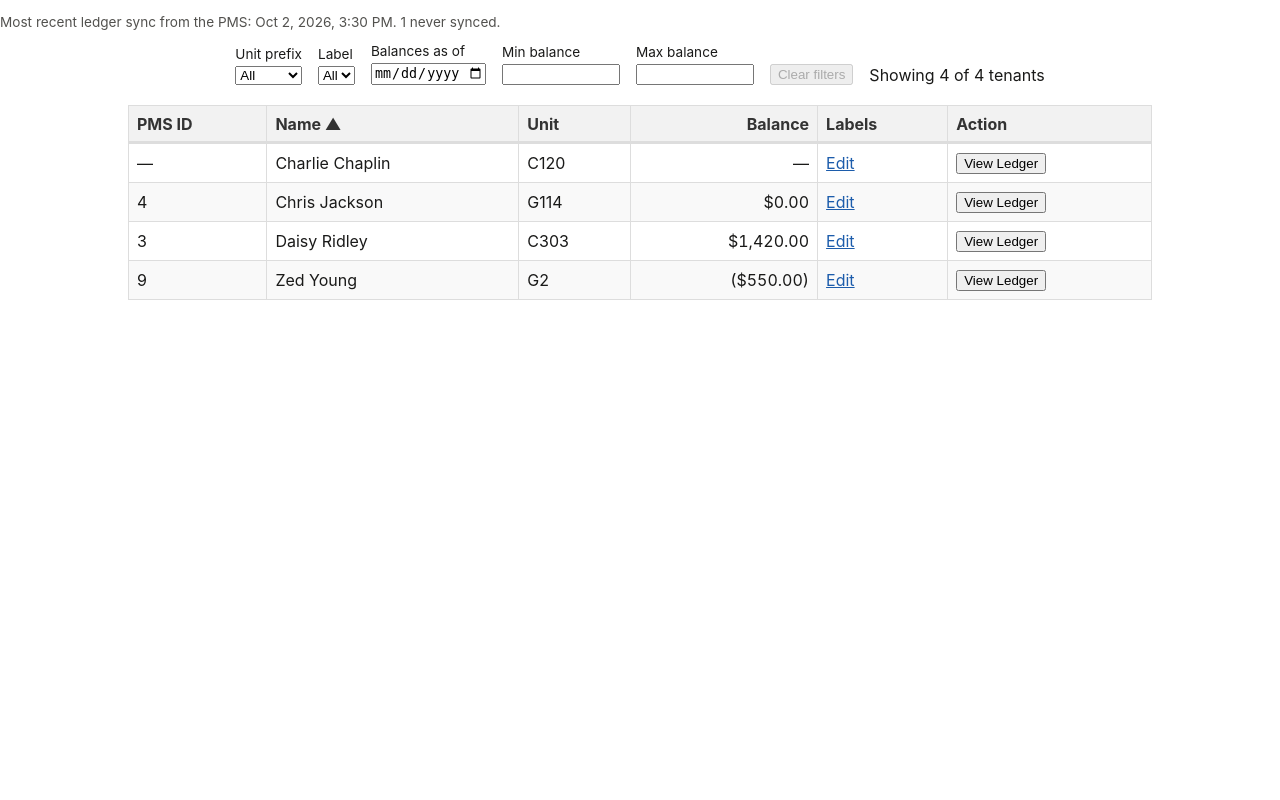
Test: the ledger closes with the Close button and with Escape
Click the button with aria-label "View ledger for Daisy Ridley" at coordinates (1001, 241), box [956, 230, 1046, 252]
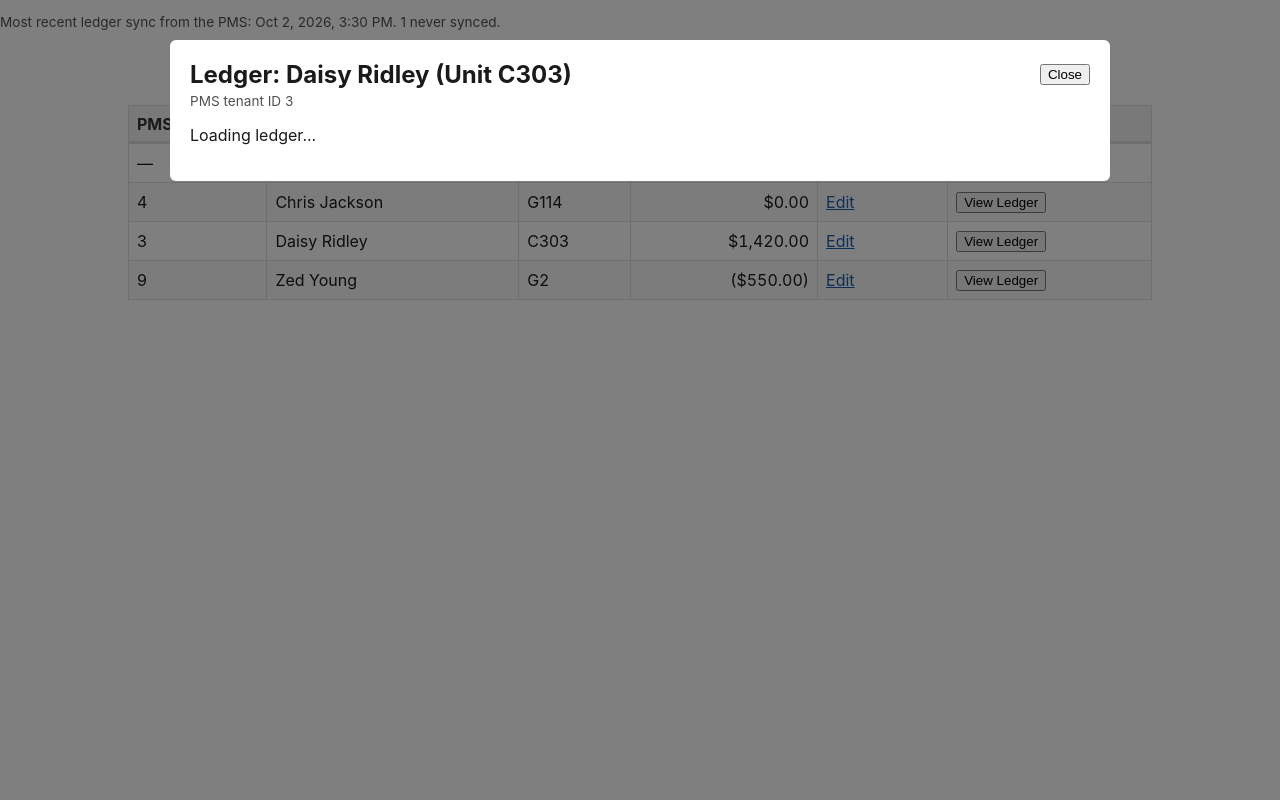
Click the button "Close" at coordinates (1065, 74), box [1040, 64, 1090, 85]
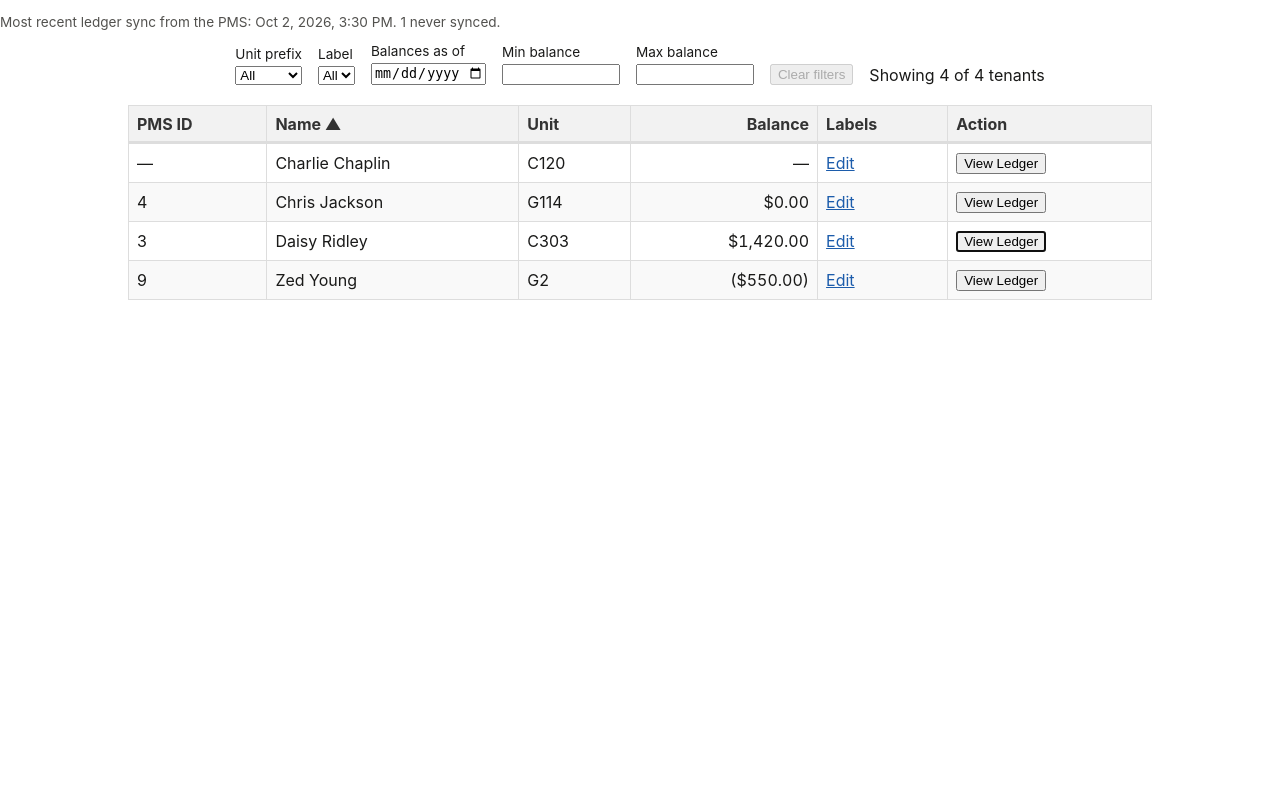
Now the dialog is gone
Click the button with aria-label "View ledger for Daisy Ridley" at coordinates (1001, 241), box [956, 230, 1046, 252]
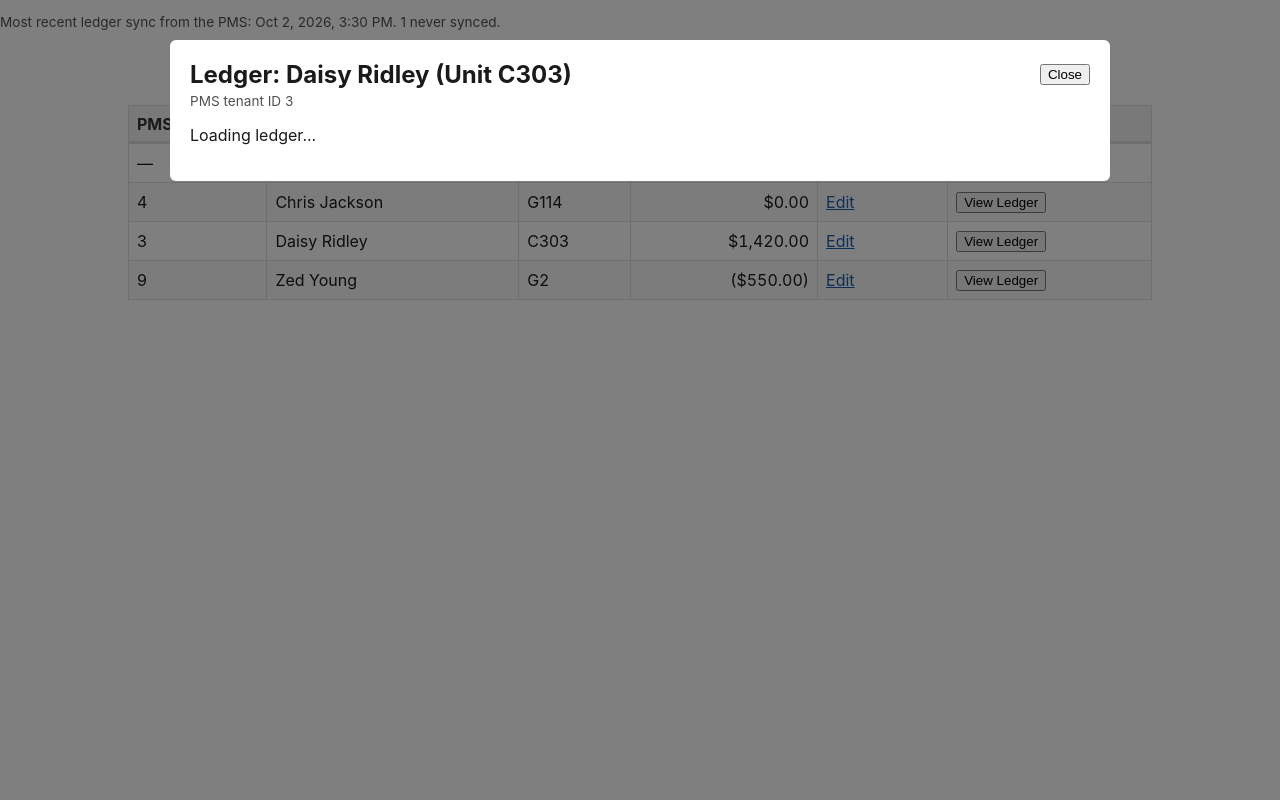
Now the dialog is shown, box [170, 40, 1110, 181]
Press Escape
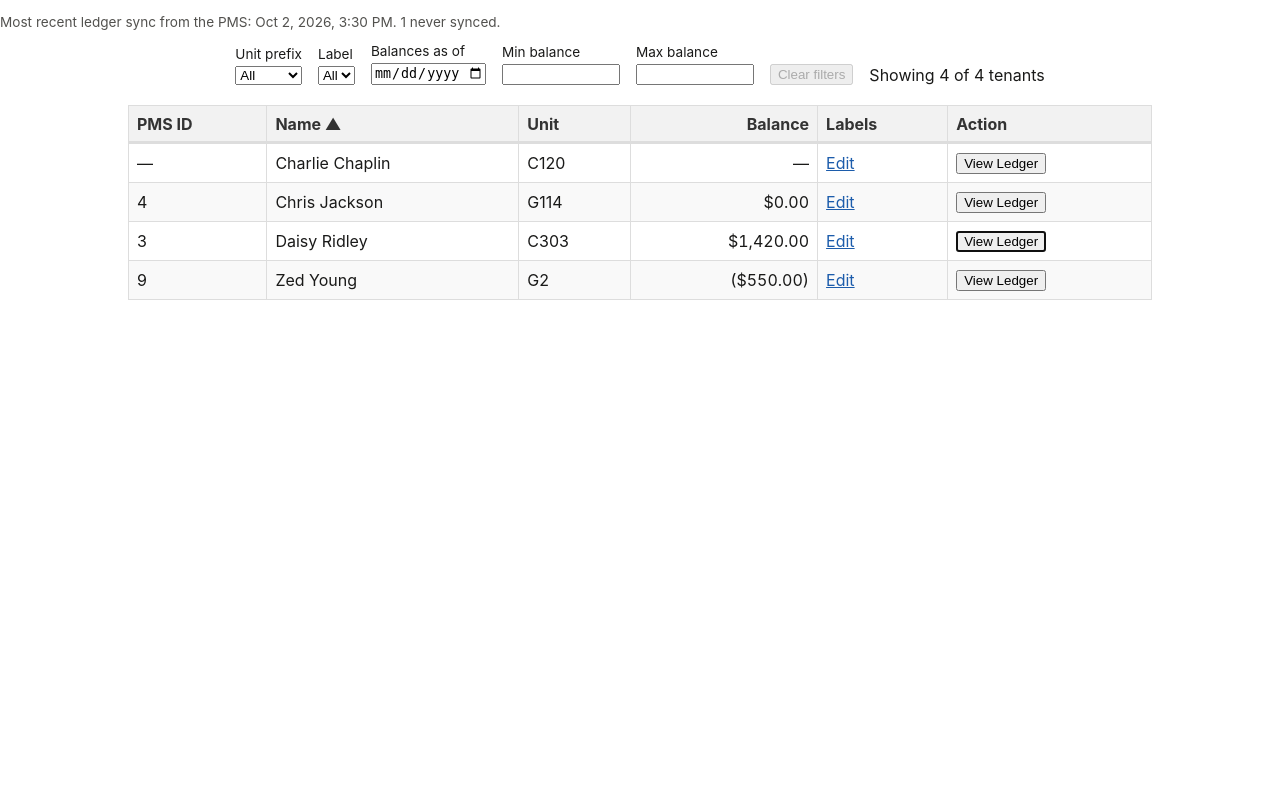
Now the dialog is gone
